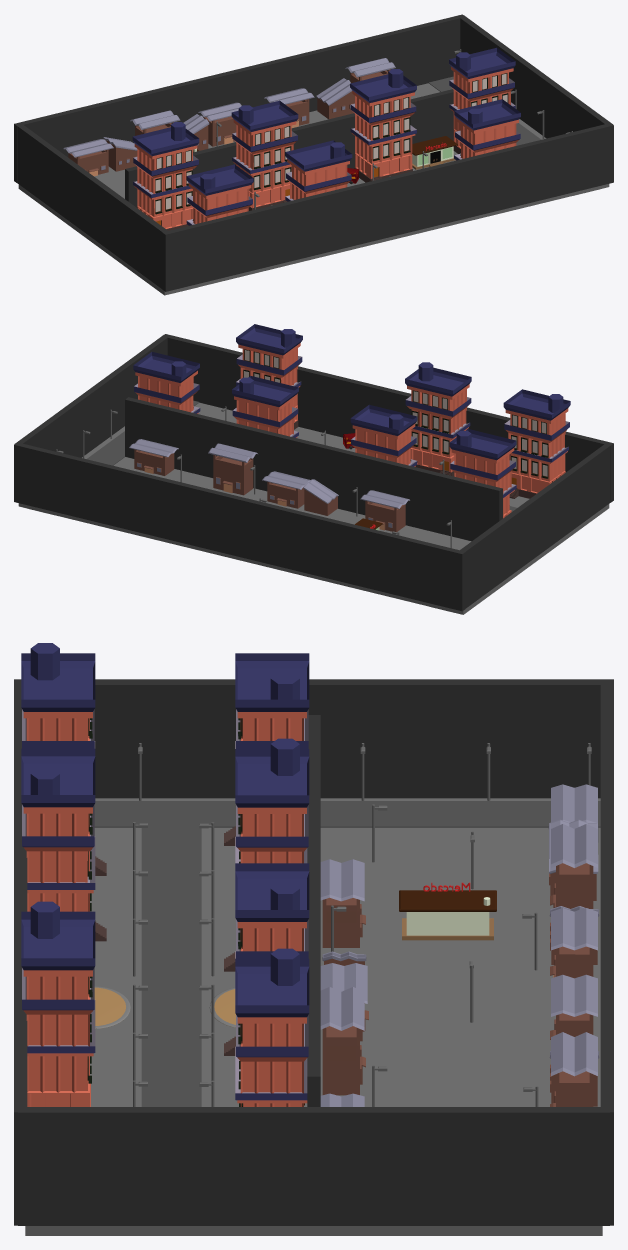
Rendered from Fase 2.fbx.
3 renders of one model, top to bottom at view 1: azimuth 30°, elevation 25°; view 2: azimuth 150°, elevation 25°; view 3: azimuth 270°, elevation 25°, orthographic. The views are drawn at different scales.
Parts seen in each view (by area): view 1: Cube.012; view 2: Cube.012; view 3: Cube.012.
Part boxes in pixels (<box>): Cube.012: <box>14,14,613,295</box>; Cube.012: <box>14,324,613,614</box>; Cube.012: <box>14,643,613,1235</box>.
Size of the model in its own units: 15389 by 3404 by 9000.
